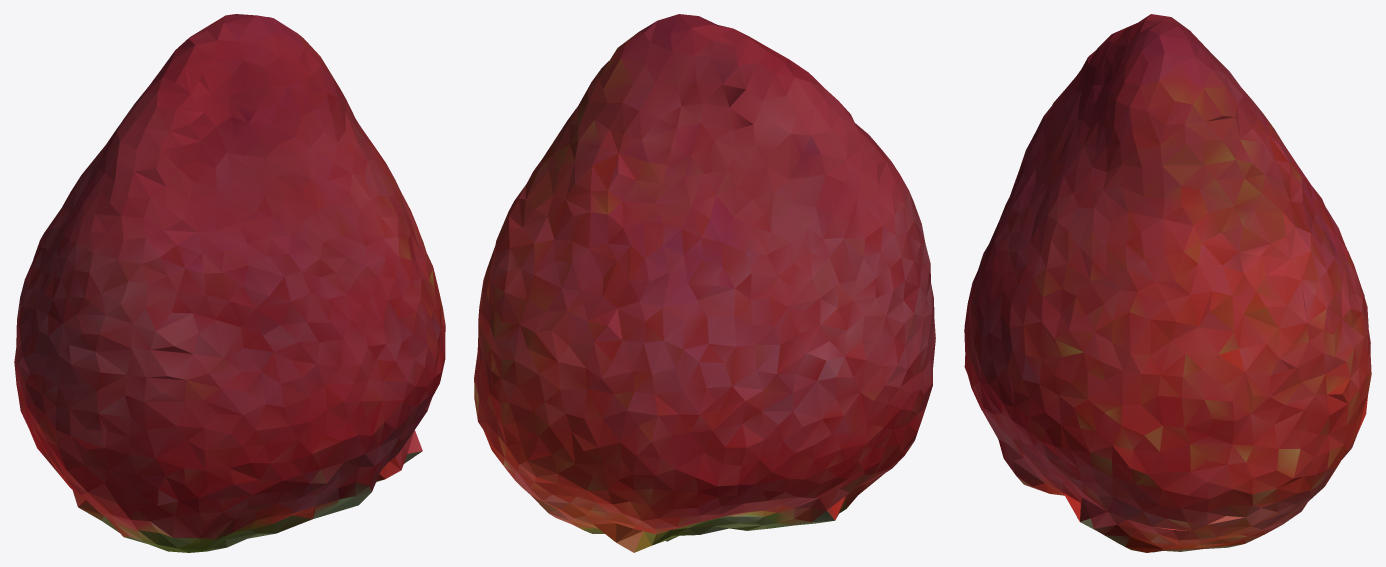
3 renders of one model, left to right at view 1: azimuth 30°, elevation 25°; view 2: azimuth 150°, elevation 25°; view 3: azimuth 270°, elevation 25°, orthographic. The views are drawn at different scales.
Visible parts, largest first — view 1: strawberry_02_visual; view 2: strawberry_02_visual; view 3: strawberry_02_visual.
Boxes of the visible parts, <box> form: strawberry_02_visual: <box>14,14,445,552</box>; strawberry_02_visual: <box>474,14,935,552</box>; strawberry_02_visual: <box>964,14,1371,552</box>.
Size of the model in its own units: 1.59 by 1.45 by 1.92.
